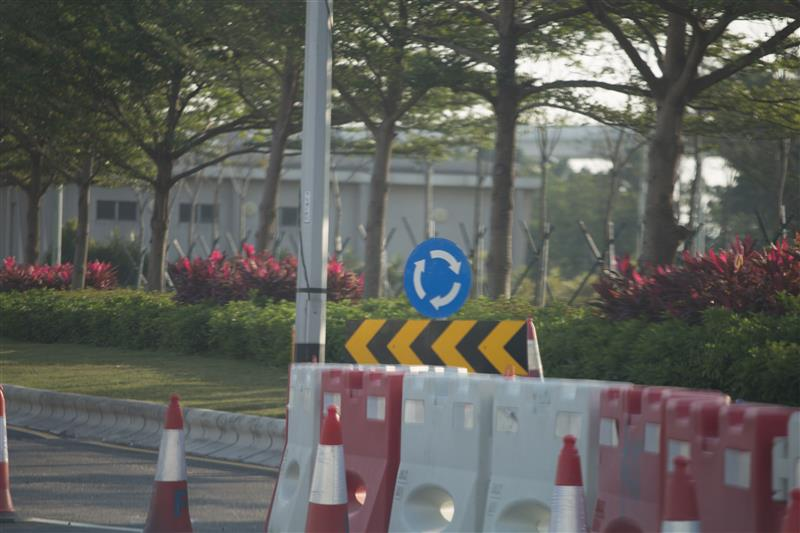roundabout: (404, 236, 473, 319)
